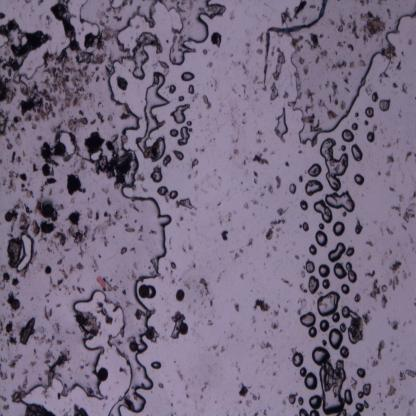Air bubble: (99, 283, 153, 415), (159, 0, 227, 66), (134, 71, 168, 164), (319, 137, 349, 191), (128, 34, 162, 79), (319, 362, 346, 416), (324, 190, 356, 213), (316, 291, 342, 318), (274, 106, 289, 142), (349, 311, 364, 344), (314, 199, 333, 224), (170, 103, 191, 125), (328, 327, 343, 352), (312, 346, 330, 365), (328, 242, 345, 262), (304, 179, 324, 195), (306, 275, 321, 295), (345, 260, 357, 284), (178, 126, 192, 146), (300, 312, 317, 328), (308, 395, 324, 411), (315, 230, 329, 248), (350, 146, 364, 164), (334, 262, 348, 280), (292, 350, 304, 368), (306, 373, 318, 391), (333, 220, 345, 238), (340, 129, 355, 143), (151, 167, 163, 184), (172, 148, 185, 162), (318, 319, 330, 334), (304, 259, 316, 274), (181, 70, 196, 82), (307, 164, 322, 176), (379, 98, 391, 112), (339, 345, 350, 360), (319, 263, 330, 278), (344, 388, 353, 406), (362, 381, 372, 397), (366, 130, 376, 144), (340, 282, 350, 296), (356, 367, 367, 379), (354, 175, 366, 186), (299, 199, 309, 212), (308, 244, 318, 256), (365, 107, 375, 119), (288, 182, 297, 195), (342, 305, 350, 319), (151, 361, 163, 370), (157, 186, 169, 195), (299, 367, 308, 379), (355, 401, 364, 413), (346, 246, 355, 258), (322, 278, 331, 290), (153, 330, 161, 343), (169, 190, 179, 200), (170, 127, 180, 137), (308, 327, 317, 338), (168, 84, 177, 95), (163, 155, 171, 167), (148, 286, 156, 298), (332, 312, 340, 324), (289, 393, 296, 405), (188, 83, 195, 95), (372, 91, 379, 102), (298, 395, 304, 406), (158, 381, 166, 389), (340, 144, 348, 152), (302, 222, 309, 231), (177, 95, 185, 102), (352, 122, 358, 131), (186, 120, 193, 127), (358, 391, 364, 399), (364, 399, 368, 410), (341, 211, 346, 216)
Background material: (22, 49, 106, 122), (86, 130, 132, 189), (90, 199, 122, 246), (10, 29, 52, 59), (65, 211, 91, 257), (50, 1, 77, 42), (50, 262, 85, 293), (47, 348, 70, 388), (359, 11, 386, 39), (265, 208, 287, 241), (280, 1, 307, 25), (17, 316, 38, 345), (76, 313, 100, 338), (36, 323, 63, 344), (30, 219, 56, 240), (317, 98, 339, 122), (40, 142, 60, 168), (0, 74, 17, 104), (22, 401, 58, 415), (6, 237, 22, 268), (169, 310, 183, 344), (65, 174, 86, 196), (272, 48, 285, 83), (18, 173, 34, 199), (378, 61, 394, 86), (83, 32, 104, 51), (96, 303, 112, 327), (66, 116, 90, 132), (2, 56, 20, 77), (4, 321, 18, 347), (0, 18, 20, 36), (306, 31, 322, 52), (176, 197, 198, 212), (18, 211, 32, 234), (252, 298, 272, 314), (402, 202, 416, 224), (9, 115, 27, 132), (5, 170, 17, 194), (218, 210, 236, 226), (0, 106, 9, 138), (380, 44, 399, 59), (7, 354, 24, 370), (252, 151, 270, 166), (369, 278, 381, 300), (72, 401, 89, 416), (198, 276, 210, 297), (10, 386, 26, 401), (40, 203, 55, 219), (181, 278, 198, 292), (52, 232, 69, 246), (116, 73, 129, 91), (387, 274, 400, 292), (291, 35, 304, 53), (256, 338, 274, 351), (329, 81, 339, 104), (95, 10, 110, 25), (386, 317, 401, 332), (101, 26, 117, 40), (330, 59, 347, 72), (350, 18, 360, 40), (230, 98, 237, 129), (198, 380, 208, 400), (297, 298, 308, 316), (10, 150, 22, 166), (14, 201, 30, 213), (123, 394, 135, 410), (269, 83, 279, 102), (43, 11, 52, 32), (390, 260, 403, 274), (353, 218, 363, 236), (238, 384, 250, 399), (20, 368, 29, 388), (42, 305, 54, 320), (212, 32, 223, 48), (403, 150, 416, 163), (378, 340, 386, 361), (302, 114, 316, 126), (337, 16, 346, 34), (88, 256, 97, 274), (107, 114, 117, 130), (233, 248, 244, 262), (306, 88, 315, 105), (132, 202, 142, 217), (135, 167, 145, 182), (362, 311, 372, 326), (357, 52, 366, 68), (386, 386, 398, 398), (122, 222, 134, 234), (270, 320, 282, 332), (120, 110, 131, 123), (4, 139, 15, 152), (43, 176, 57, 186), (0, 396, 10, 410), (137, 224, 144, 244), (254, 129, 263, 144), (241, 62, 250, 77), (96, 110, 105, 125), (5, 290, 16, 302), (385, 374, 396, 386), (384, 225, 395, 237), (404, 367, 416, 378), (282, 277, 293, 289), (350, 377, 360, 390), (176, 367, 184, 383), (380, 295, 389, 309), (221, 228, 230, 242), (202, 94, 211, 108), (13, 133, 22, 147), (6, 224, 14, 239), (304, 104, 316, 114), (78, 358, 88, 370), (275, 174, 282, 190), (390, 204, 401, 214), (386, 154, 396, 165), (364, 269, 376, 278), (253, 75, 262, 87), (212, 344, 219, 359), (212, 75, 219, 90), (233, 359, 241, 372), (74, 284, 84, 294), (112, 15, 124, 23), (401, 83, 409, 95), (398, 369, 406, 381), (43, 292, 51, 304), (257, 32, 265, 44), (365, 85, 373, 97), (216, 173, 223, 186), (118, 366, 128, 375), (300, 263, 306, 278), (39, 184, 44, 202), (0, 369, 8, 380), (299, 283, 307, 294), (119, 245, 127, 256), (254, 392, 262, 403), (240, 157, 248, 168), (192, 181, 200, 192), (408, 396, 416, 407), (53, 203, 64, 211), (0, 317, 5, 334), (192, 158, 198, 172), (358, 0, 372, 6), (234, 302, 241, 314), (30, 121, 37, 133), (253, 170, 259, 184), (303, 65, 310, 77), (314, 54, 322, 64), (2, 272, 10, 282), (371, 359, 379, 369), (251, 197, 261, 205), (298, 408, 308, 416), (180, 241, 186, 254), (131, 269, 138, 280), (32, 348, 39, 359), (11, 278, 20, 286), (55, 257, 63, 266), (220, 344, 226, 356), (86, 387, 94, 396), (298, 56, 306, 65), (347, 43, 355, 52), (320, 49, 329, 57), (32, 164, 40, 173), (340, 100, 346, 112), (248, 236, 254, 248), (217, 270, 222, 284), (245, 398, 252, 408), (365, 252, 372, 262), (196, 145, 206, 152), (343, 76, 350, 86), (349, 60, 356, 70), (381, 284, 388, 294), (140, 185, 150, 192), (401, 269, 407, 280), (241, 83, 247, 94), (396, 61, 402, 72), (354, 110, 360, 121), (268, 184, 274, 195), (0, 356, 8, 364), (35, 134, 43, 142), (63, 408, 71, 416), (256, 48, 264, 56), (244, 42, 252, 50), (232, 147, 240, 155), (366, 240, 374, 248), (318, 222, 326, 230), (392, 82, 400, 90), (206, 318, 214, 326), (101, 186, 109, 194), (273, 309, 280, 318), (170, 261, 177, 270), (408, 234, 414, 244), (266, 250, 272, 260), (398, 193, 404, 203), (242, 199, 248, 209), (382, 142, 392, 148), (252, 314, 258, 324), (192, 92, 198, 102), (298, 174, 304, 184), (149, 228, 157, 235), (344, 86, 351, 94), (386, 6, 390, 20), (195, 111, 202, 119), (337, 42, 344, 50), (384, 168, 391, 176), (400, 224, 408, 231), (354, 294, 362, 301), (7, 372, 15, 379), (106, 197, 112, 206), (229, 319, 235, 328), (284, 158, 290, 167), (324, 79, 330, 88), (282, 90, 288, 99), (169, 236, 173, 249), (186, 173, 193, 180), (129, 246, 136, 253), (46, 249, 54, 255), (191, 262, 197, 270), (262, 146, 270, 152), (0, 12, 6, 20), (372, 124, 378, 132), (203, 48, 209, 56), (321, 339, 327, 347), (410, 192, 416, 200), (209, 299, 214, 308), (282, 397, 287, 406), (21, 149, 26, 158), (38, 262, 43, 271), (30, 361, 37, 367), (376, 169, 382, 176), (290, 346, 296, 353), (319, 32, 325, 39), (187, 244, 193, 251), (260, 357, 266, 364), (389, 187, 396, 193), (364, 119, 370, 126), (239, 121, 247, 126), (284, 306, 289, 314), (252, 411, 260, 416), (230, 11, 234, 21), (302, 16, 307, 24), (309, 4, 315, 10), (184, 394, 190, 400), (276, 389, 282, 395), (408, 37, 412, 46), (276, 303, 282, 309), (206, 62, 212, 68), (392, 403, 398, 409), (294, 255, 300, 261), (297, 149, 303, 155), (36, 376, 42, 382), (57, 394, 62, 401), (228, 154, 233, 161), (229, 333, 234, 340), (250, 344, 255, 351), (380, 225, 383, 236), (398, 110, 402, 118), (231, 138, 239, 142), (263, 408, 267, 416), (401, 48, 405, 56), (165, 196, 169, 204), (122, 289, 126, 297), (381, 257, 385, 265), (232, 61, 238, 66), (232, 88, 238, 93), (170, 279, 176, 284), (379, 393, 382, 403), (353, 411, 359, 416), (114, 286, 119, 292), (57, 303, 62, 309), (390, 340, 395, 346), (371, 220, 377, 225), (242, 224, 247, 230), (399, 396, 403, 403), (188, 305, 192, 312), (333, 51, 338, 56), (38, 0, 43, 5), (240, 273, 244, 279), (216, 203, 222, 207), (254, 89, 258, 95), (330, 20, 334, 26), (260, 193, 266, 197), (165, 38, 169, 44), (235, 375, 239, 381), (27, 0, 31, 6), (255, 367, 259, 373), (236, 400, 242, 404), (194, 170, 197, 178), (397, 239, 400, 246), (377, 1, 382, 5), (176, 221, 180, 226), (348, 72, 352, 77), (263, 87, 267, 92), (177, 277, 181, 282), (239, 180, 243, 185), (229, 53, 233, 58), (371, 405, 375, 410), (85, 374, 90, 378), (319, 84, 322, 90), (299, 223, 302, 229), (390, 248, 392, 257), (390, 347, 393, 353), (180, 216, 183, 222), (133, 219, 137, 223), (305, 168, 307, 176), (246, 188, 250, 192), (263, 185, 267, 189), (272, 151, 276, 155), (263, 330, 267, 334), (413, 302, 416, 307), (317, 6, 319, 12), (99, 254, 101, 260), (193, 299, 196, 303), (396, 138, 399, 142), (170, 404, 173, 408), (238, 94, 242, 97), (341, 71, 344, 75), (382, 413, 386, 416), (171, 413, 174, 416), (174, 360, 176, 364), (404, 322, 406, 326), (274, 373, 276, 376), (244, 113, 245, 117), (239, 61, 240, 65)
Cellulose filter fibre: (262, 0, 329, 86)
Diatom: (96, 367, 110, 382), (54, 141, 66, 158), (178, 322, 190, 337), (10, 297, 22, 310), (138, 284, 149, 298), (129, 339, 138, 353), (146, 328, 155, 341), (5, 211, 15, 222), (175, 290, 185, 301), (42, 164, 52, 175), (70, 40, 79, 51), (44, 265, 52, 275)
Fragment: (96, 276, 106, 289)
